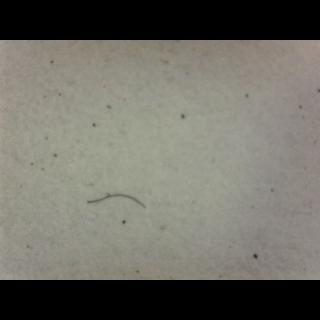Microplastic: (80, 178, 162, 228)
